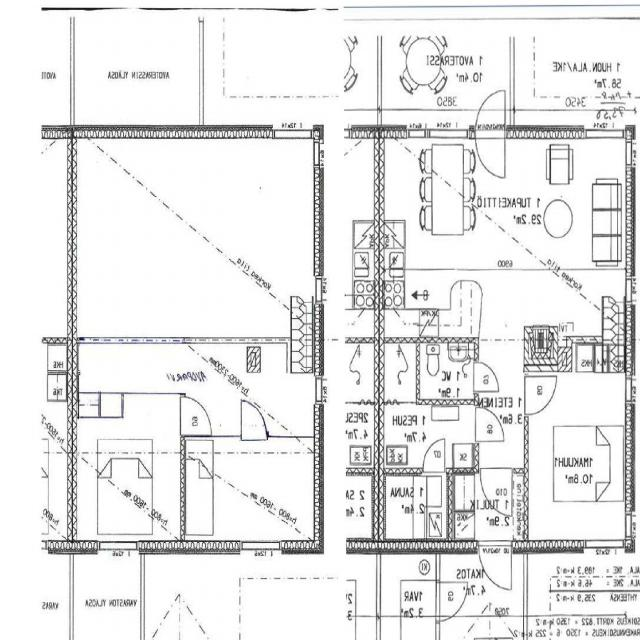door: (479, 540, 512, 596), (476, 124, 505, 176), (476, 86, 505, 137), (481, 468, 512, 515), (524, 376, 557, 414), (436, 582, 468, 620), (181, 397, 213, 434), (241, 401, 268, 440), (475, 407, 504, 441), (423, 439, 445, 475), (475, 363, 500, 391)
